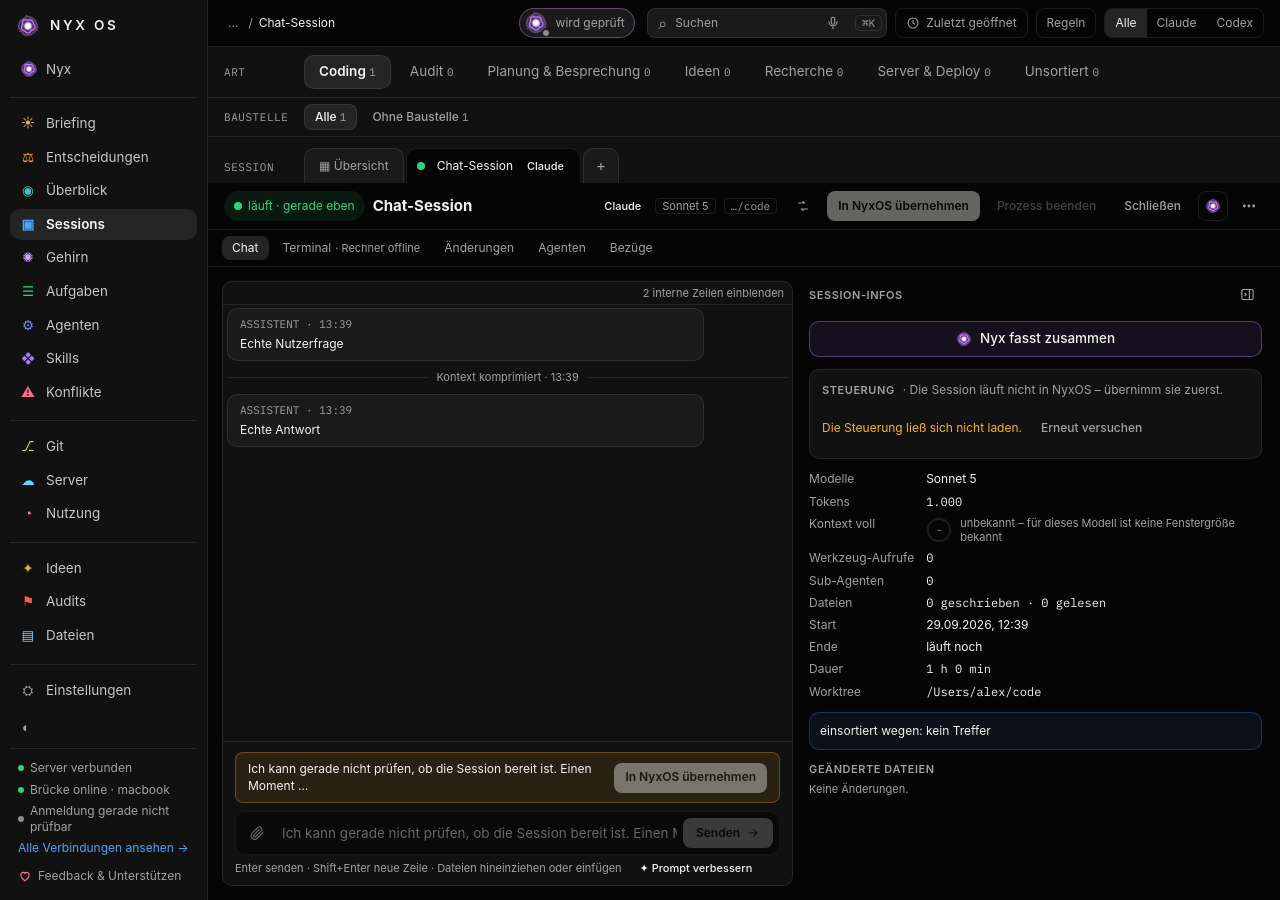
Test case: Chat: interne Zeilen ausgeblendet › Knopf blendet die internen Zeilen ein und wieder aus
The image size is (1280, 900).
Check: the text "Echte Nutzerfrage" is shown, box [240,336,344,350]
Step 1. Click the button "2 interne Zeilen einblenden" → [713, 293], box [643,286,784,300]
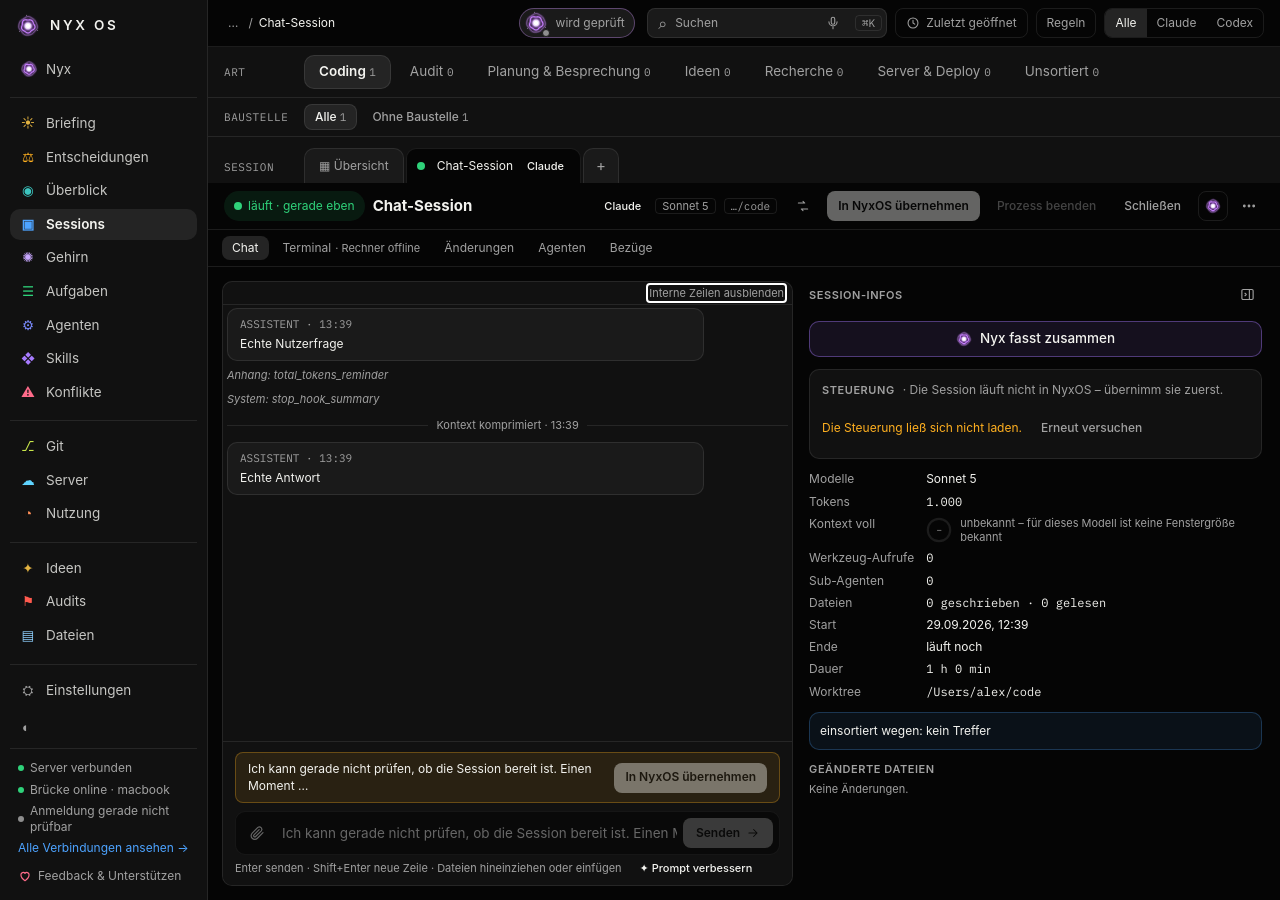
Check: the text "Anhang: total_tokens_reminder" is shown, box [227,368,388,382]
Check: the text "System: stop_hook_summary" is shown, box [227,392,379,406]
Step 2. Click the button "Interne Zeilen ausblenden" → [717, 293], box [649,286,784,300]
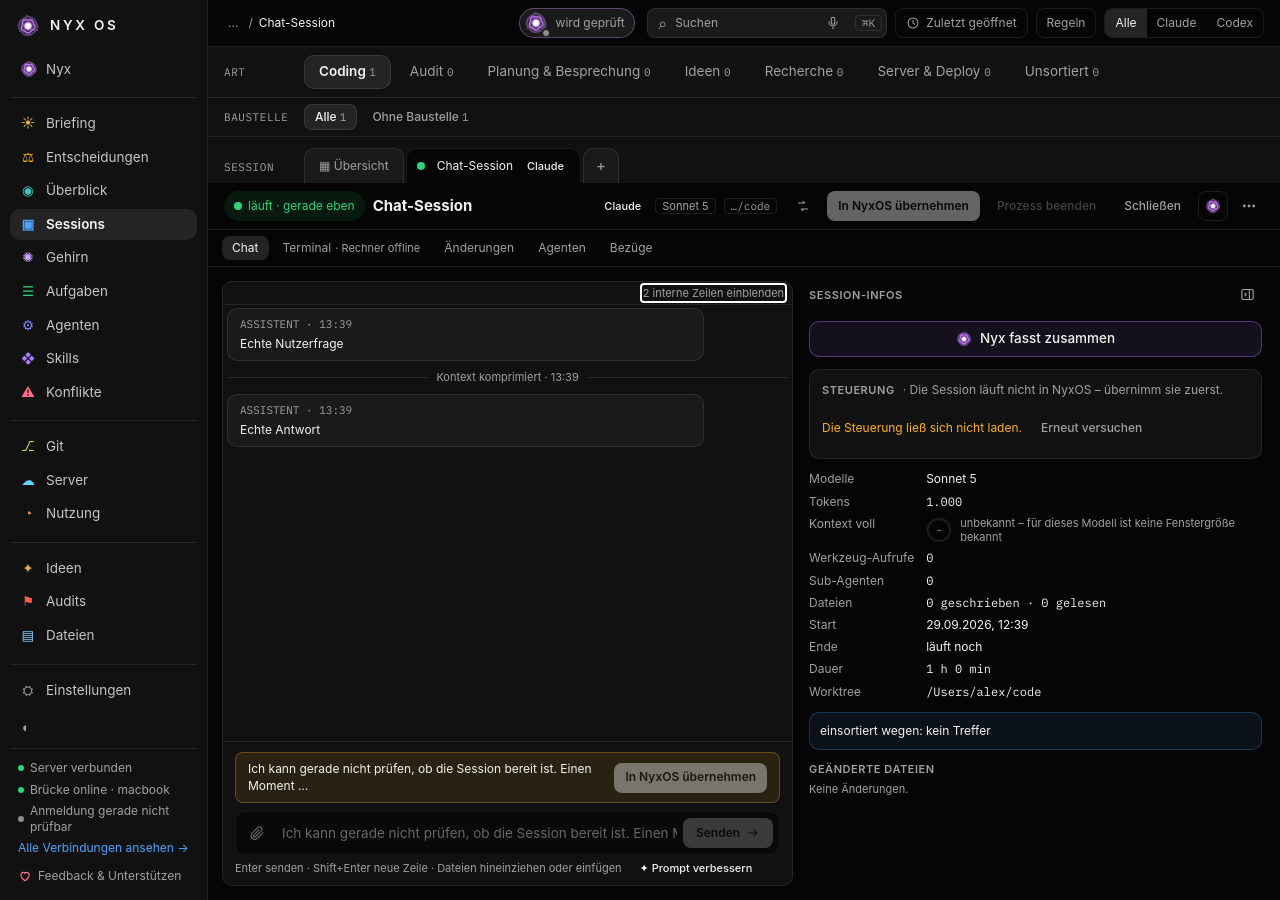
Check: the text "Anhang: total_tokens_reminder" is gone
